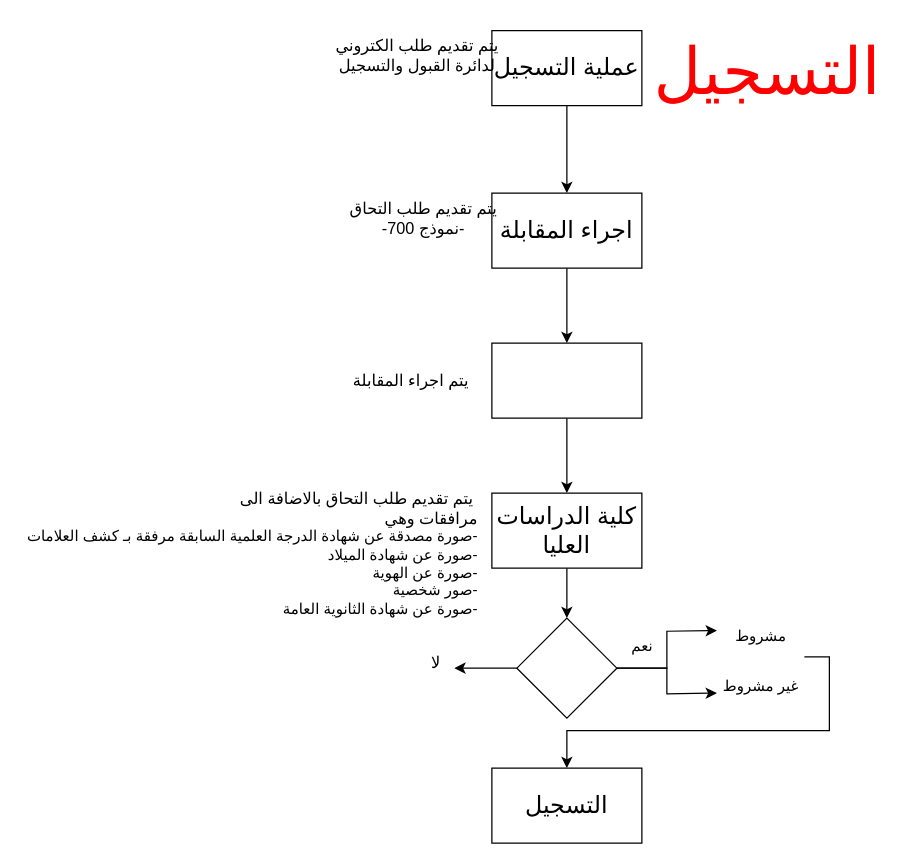
The diagram is 901 pixels wide and 865 high, and some of its shapes have lost their labels. The shapes that lost their labels are listed below. From the top down, each one's centre as x and y in pixels, then its label:
At pixel 566 380: "منسق البرنامج".
At pixel 566 667: "هل تمت الموافقة".
